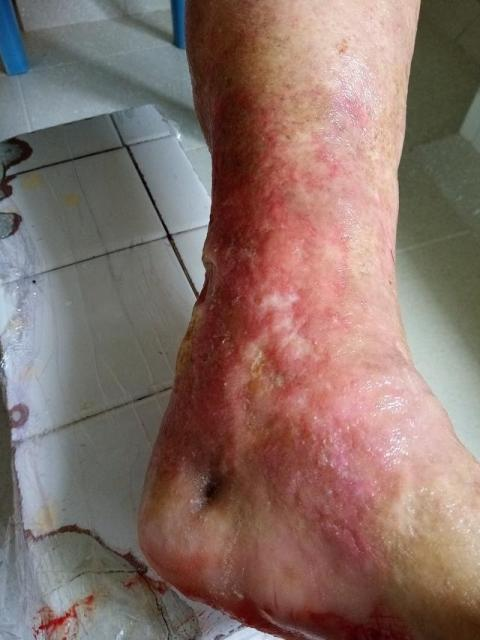wound: (141, 258, 397, 634)
